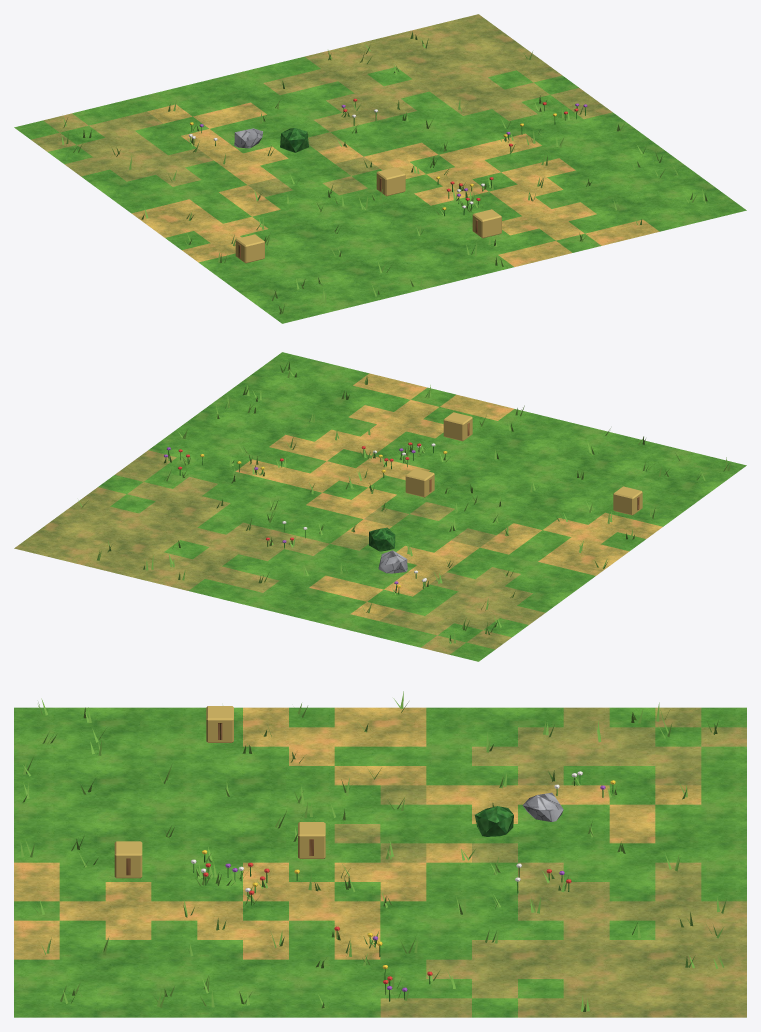
Rendered from chunk_10_7.glb.
3 renders of one model, top to bottom at view 1: azimuth 30°, elevation 25°; view 2: azimuth 150°, elevation 25°; view 3: azimuth 270°, elevation 25°, orthographic. The views are drawn at different scales.
Visible parts, largest first — view 1: chunk_10_7; view 2: chunk_10_7; view 3: chunk_10_7.
Part boxes in pixels (x1,y1,x2,y2): chunk_10_7: (14, 14, 746, 323); chunk_10_7: (14, 352, 746, 661); chunk_10_7: (14, 691, 746, 1017).
Bounding box in the file's own units: 16.16 × 0.948 × 16.
13 materials, 7 textured.
